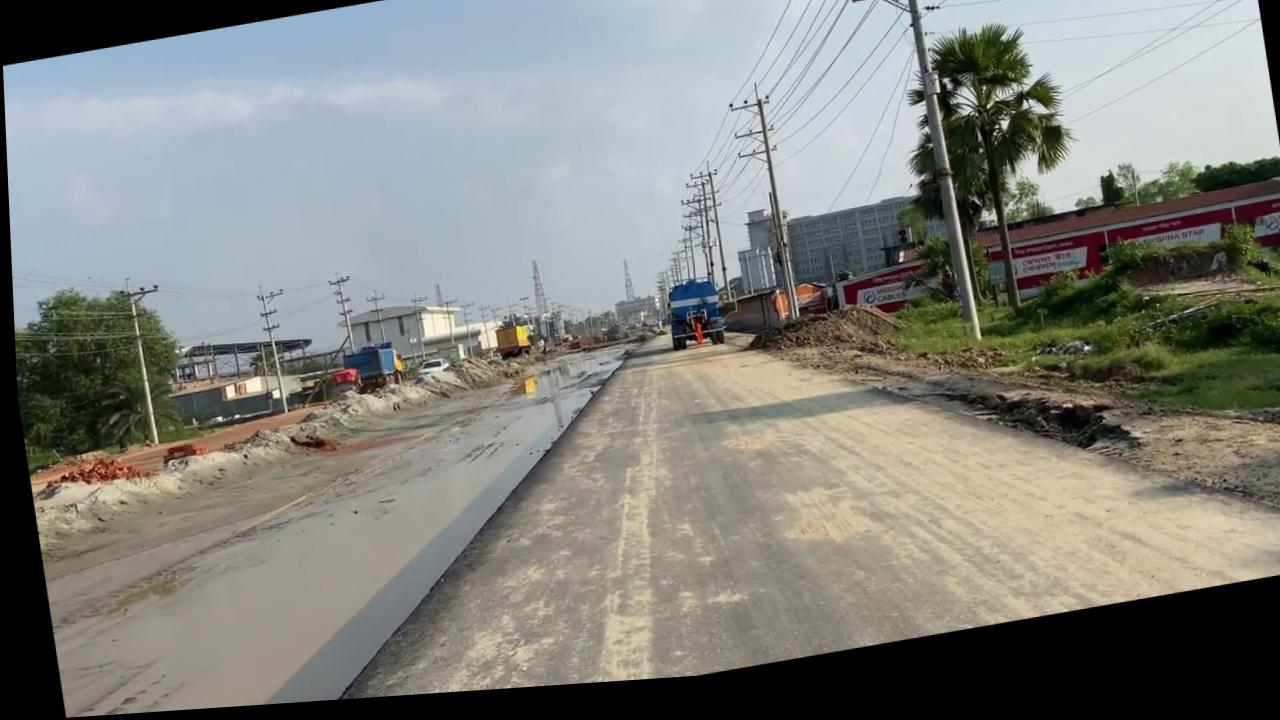Car: (413, 361, 449, 383)
Pole: (837, 0, 982, 367), (892, 0, 978, 359)
Rickshaw: (241, 238, 1280, 708)
Stuck-water: (688, 329, 701, 354)
Traffic-sign: (885, 21, 1096, 336)
Tree: (814, 233, 952, 336), (659, 283, 723, 361), (326, 345, 403, 403), (768, 289, 829, 334), (489, 328, 530, 367), (155, 441, 204, 467)
Upstairs: (18, 337, 674, 720)
